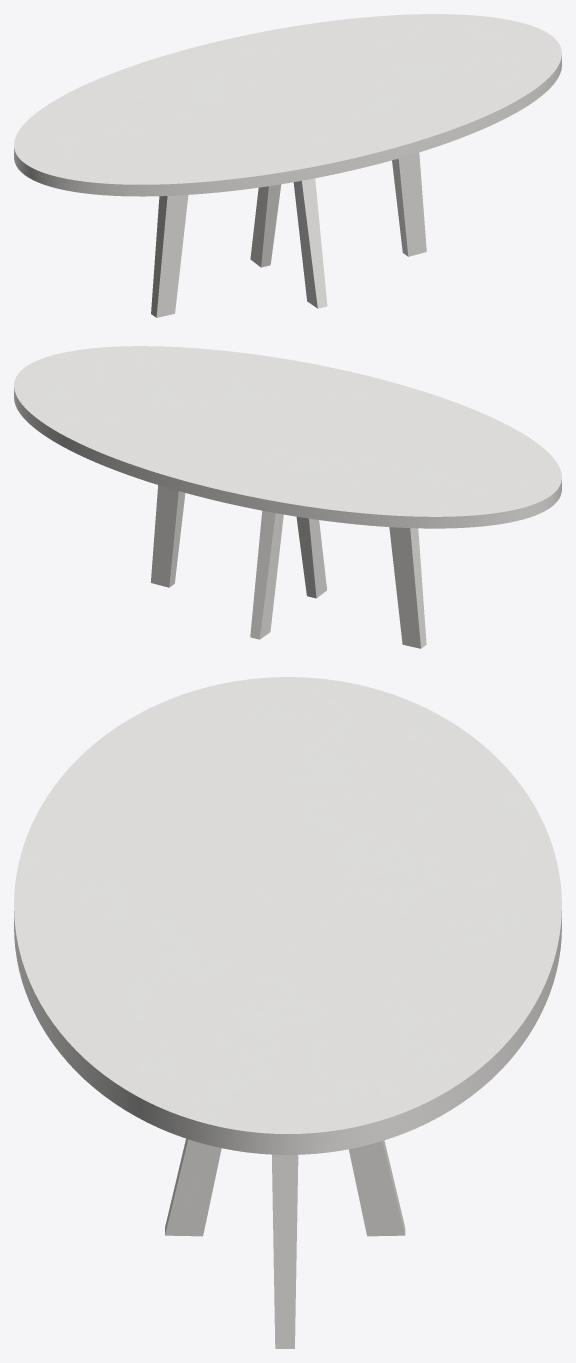
File: purewhite_ellips_standard_searwalnut.glb
3 renders of one model, top to bottom at view 1: azimuth 30°, elevation 25°; view 2: azimuth 150°, elevation 25°; view 3: azimuth 270°, elevation 25°, orthographic. The views are drawn at different scales.
Parts seen in each view (by area): view 1: standard_ellips, searwalnut; view 2: standard_ellips, searwalnut; view 3: standard_ellips, searwalnut.
Part boxes in pixels (x1,y1,x2,y2): standard_ellips: (14,14,561,196); searwalnut: (151,152,426,317); standard_ellips: (14,346,561,528); searwalnut: (150,485,426,648); standard_ellips: (14,677,561,1154); searwalnut: (165,1138,405,1348).
Size of the model in its own units: 7.5 by 2.5 by 3.8.
1 material, 1 textured.
